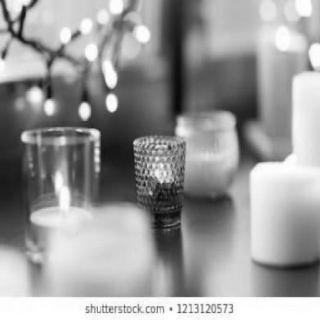Fire: (51, 167, 75, 217)
